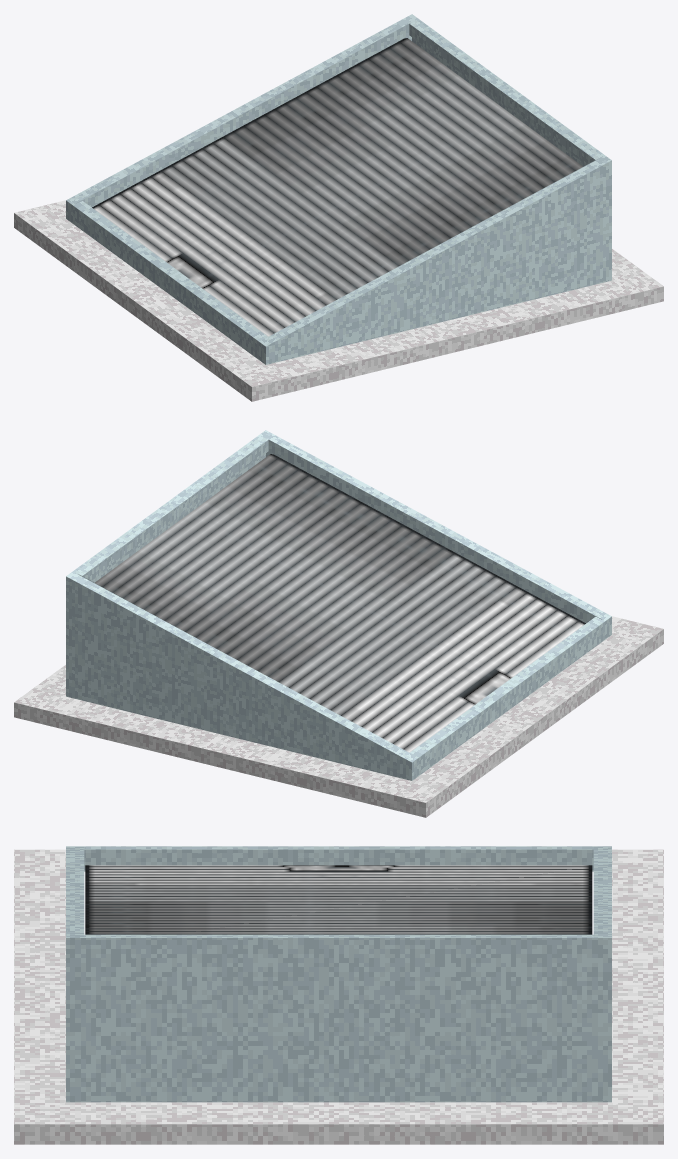
File: BGN_CITY BUNKERS.fbx
The picture shows the model from 3 angles, top to bottom: view 1: azimuth 30°, elevation 25°; view 2: azimuth 150°, elevation 25°; view 3: azimuth 270°, elevation 25°; orthographic projection. The views are drawn at different scales.
Parts seen in each view (by area): view 1: BGN_ST_BUNKERS; view 2: BGN_ST_BUNKERS; view 3: BGN_ST_BUNKERS.
Boxes of the visible parts, box(x1,y1,x2,y2) form: BGN_ST_BUNKERS: box(14, 14, 663, 401); BGN_ST_BUNKERS: box(14, 430, 663, 817); BGN_ST_BUNKERS: box(14, 846, 663, 1144).
Size of the model in its own units: 401 by 126 by 401.
Materials: 3 (3 with a texture image).
